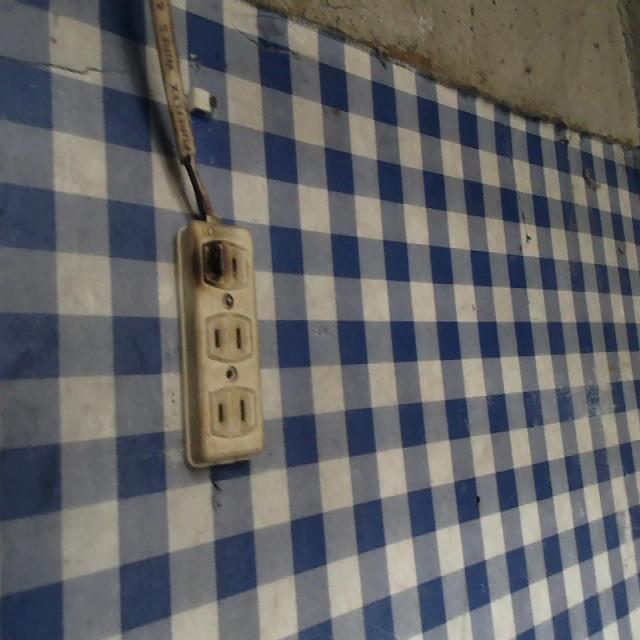-: (189, 232, 228, 292)
